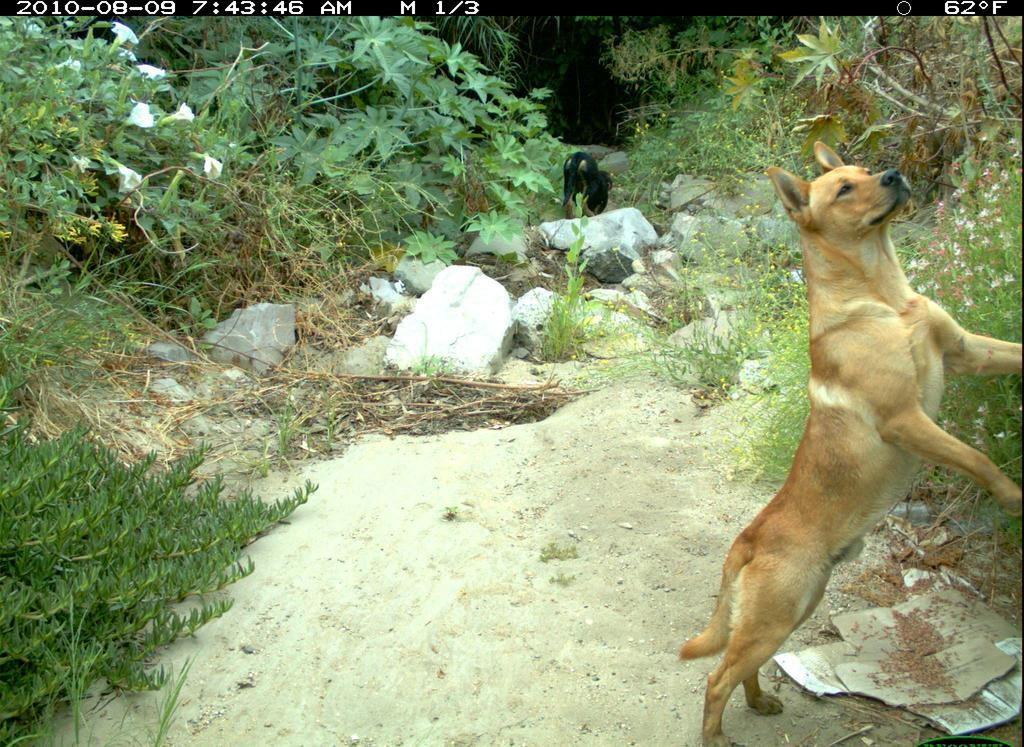dog: (671, 135, 1015, 747), (554, 138, 626, 231)
